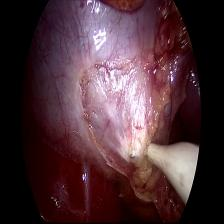Hook: (128, 139, 200, 203)
